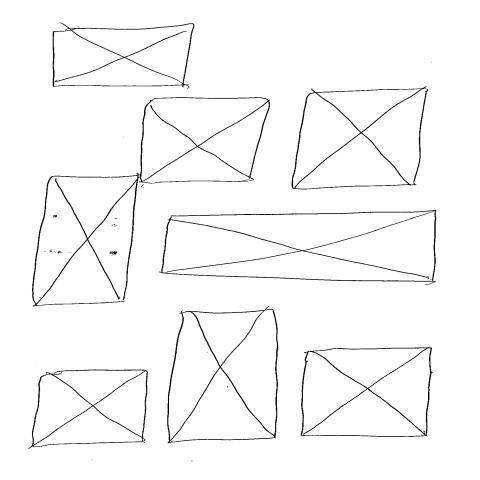Image: (160, 211, 439, 284), (165, 310, 281, 445), (31, 176, 138, 306), (299, 347, 434, 440), (139, 96, 270, 183), (51, 22, 196, 89), (30, 369, 151, 448)
